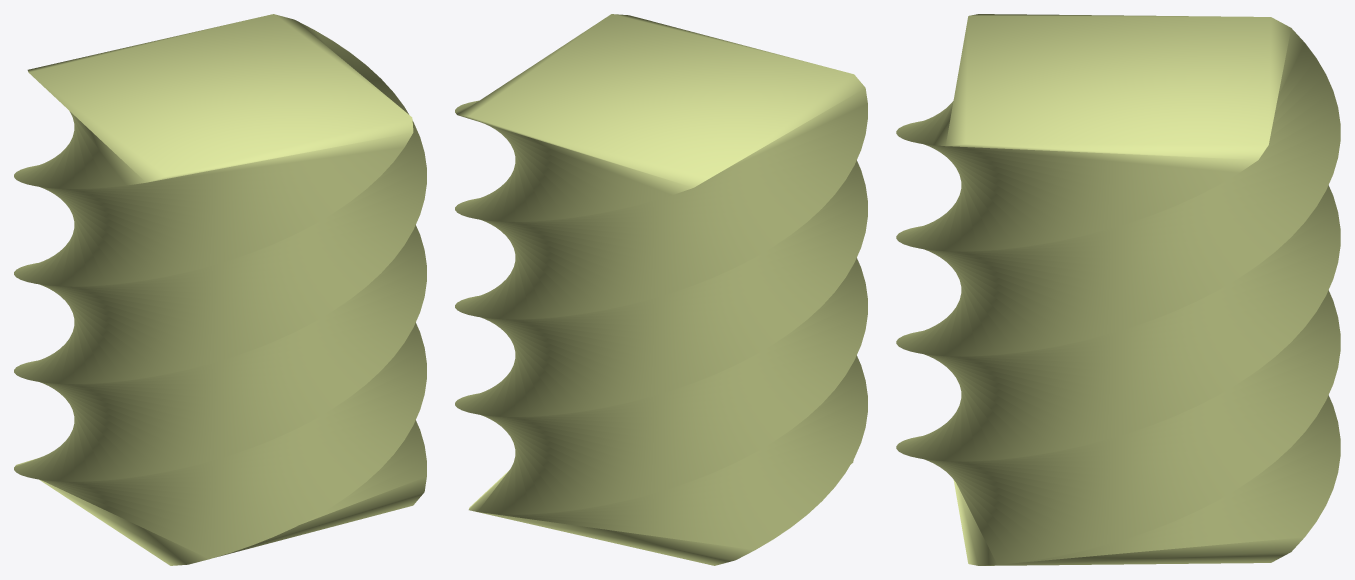
Rendered from aTwist.fbx.
3 renders of one model, left to right at view 1: azimuth 30°, elevation 25°; view 2: azimuth 150°, elevation 25°; view 3: azimuth 270°, elevation 25°, orthographic. The views are drawn at different scales.
Visible parts, largest first — view 1: Plane; view 2: Plane; view 3: Plane.
Boxes of the visible parts, x1=… form: Plane: x1=14, y1=14, x2=426, y2=565; Plane: x1=455, y1=14, x2=867, y2=565; Plane: x1=896, y1=14, x2=1340, y2=565.
Bounding box in the file's own units: 508 × 529 × 508.
